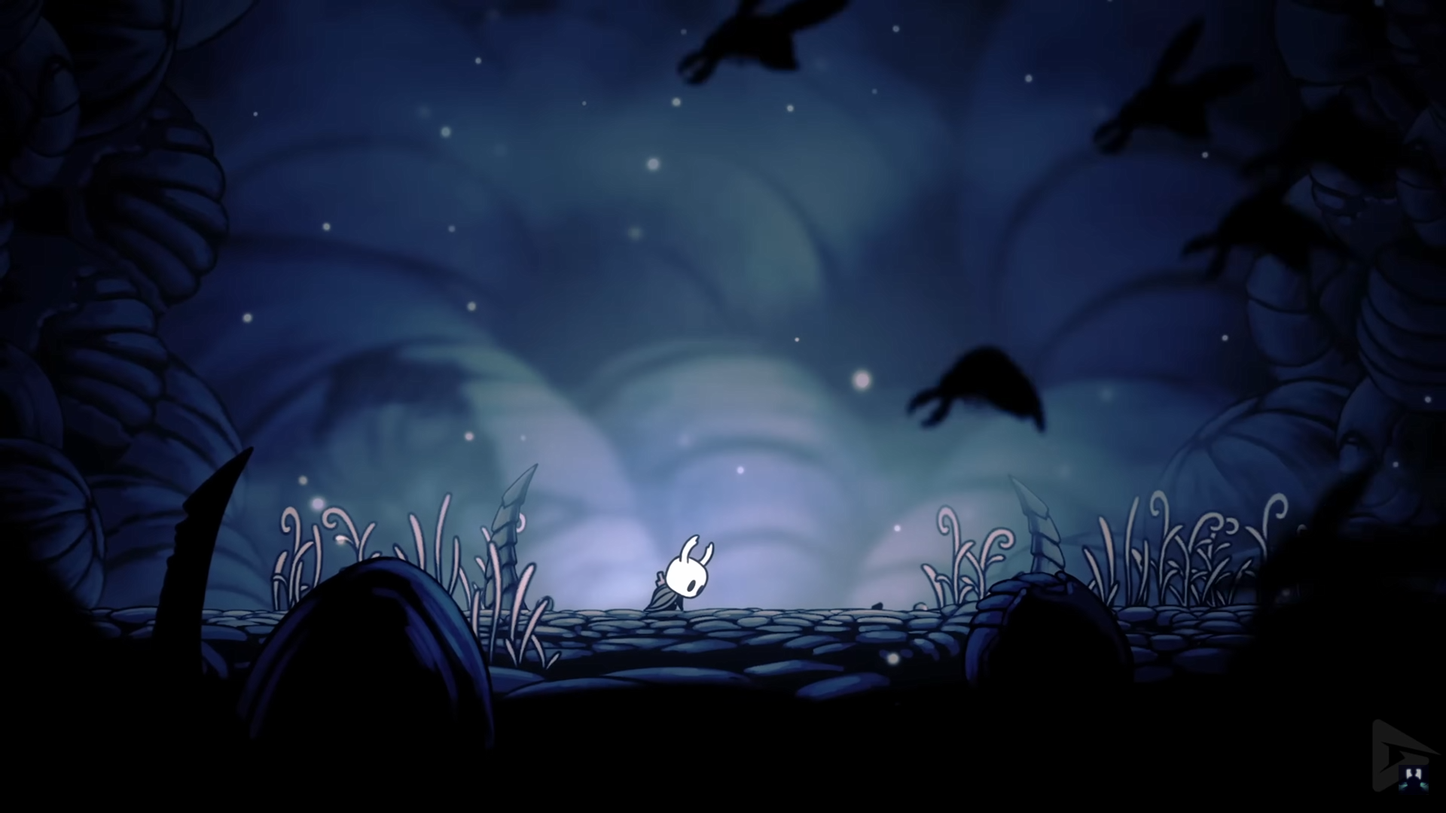HK: (651, 533, 714, 612)
